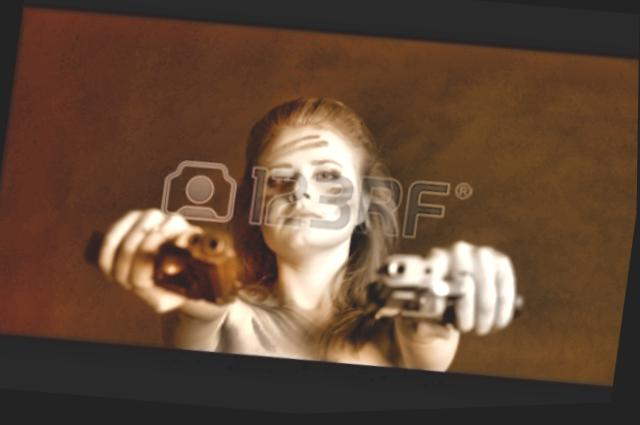pistol: (354, 223, 531, 353), (75, 206, 252, 312)
